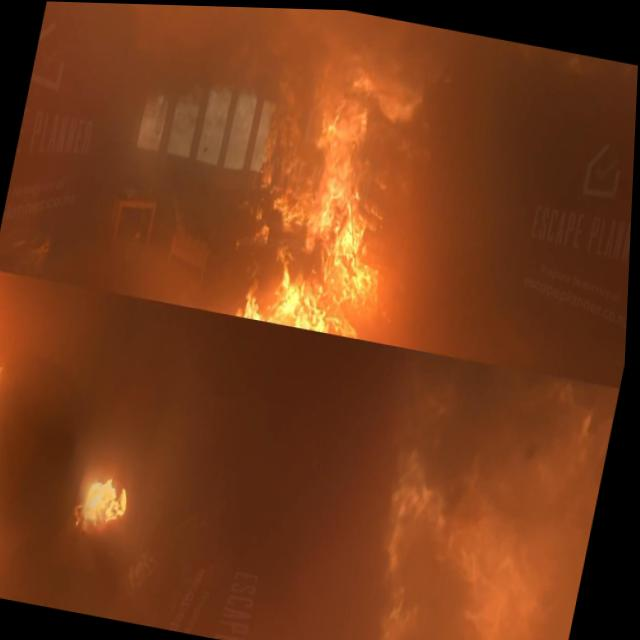fire: (229, 42, 433, 340), (74, 458, 146, 543), (0, 337, 20, 562)
